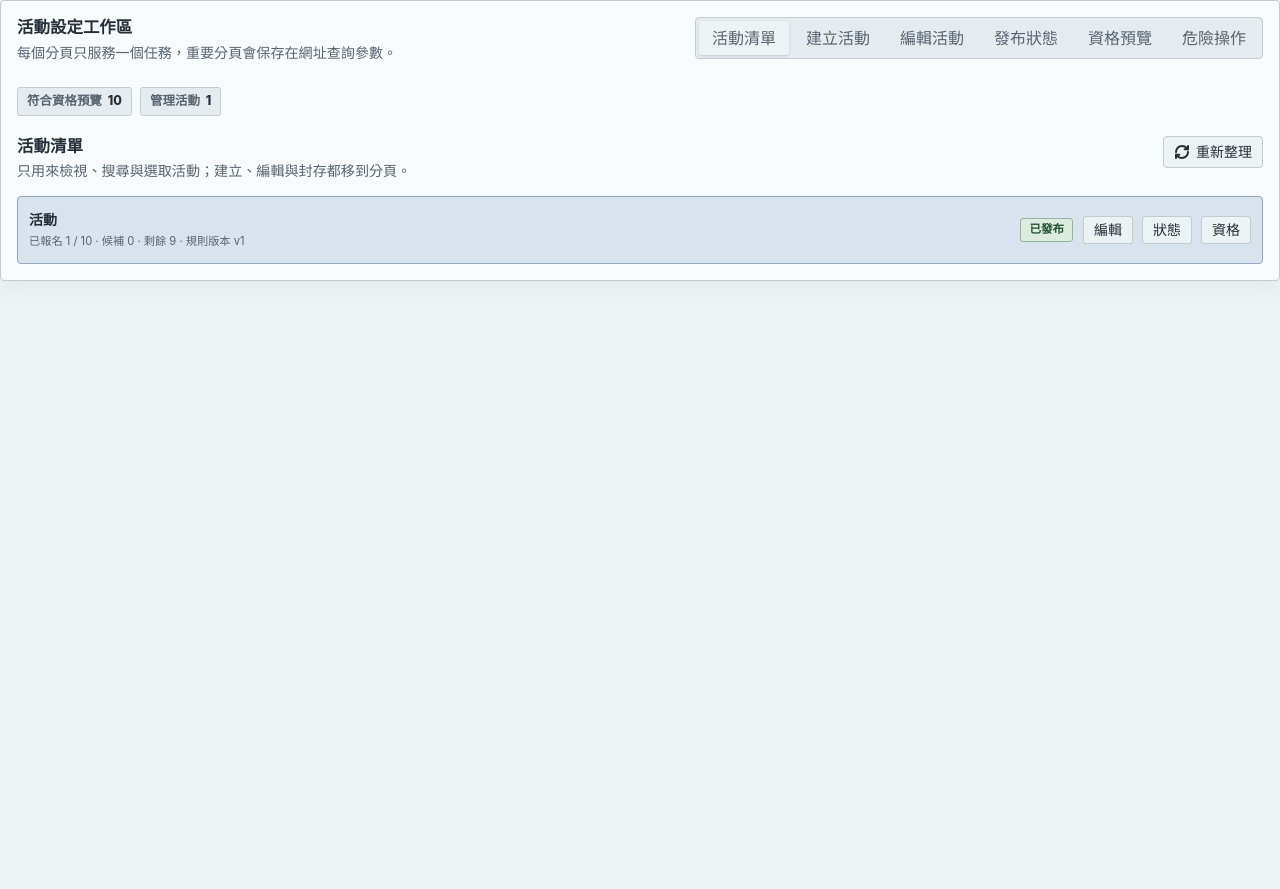
Test: AdminEventsPage CRUD tabs › keeps list, edit, status, eligibility, and danger work in separate tabs
This screenshot has width=1280, height=889.
Expected: the button "封存活動" is not shown
Click the tab "編輯活動": point(932, 38) [887,21,977,55]
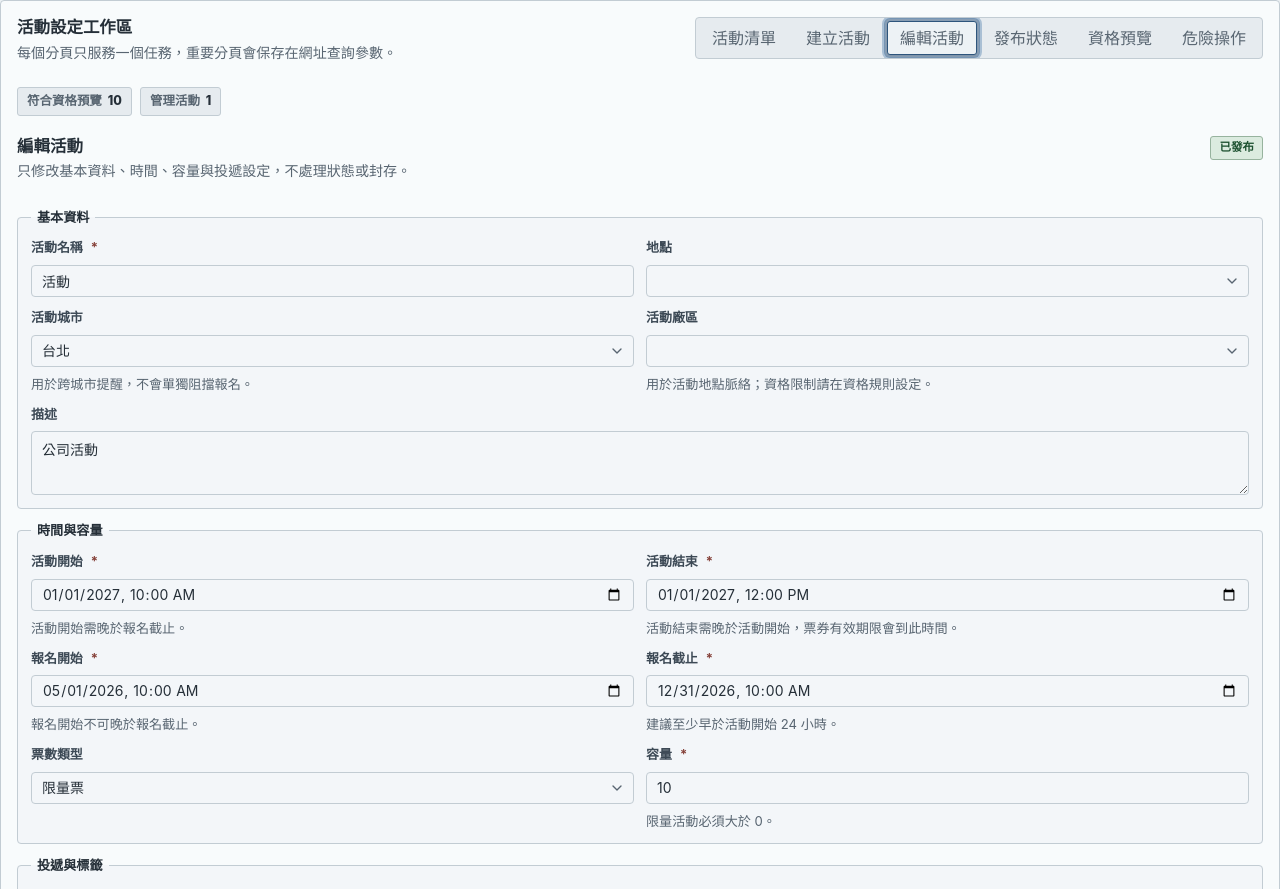
Expected: the button "封存活動" is not shown
Expected: the heading "編輯活動" is shown, [17,136,83,156]
Click the tab "發布狀態": point(1026, 38) [981,21,1071,55]
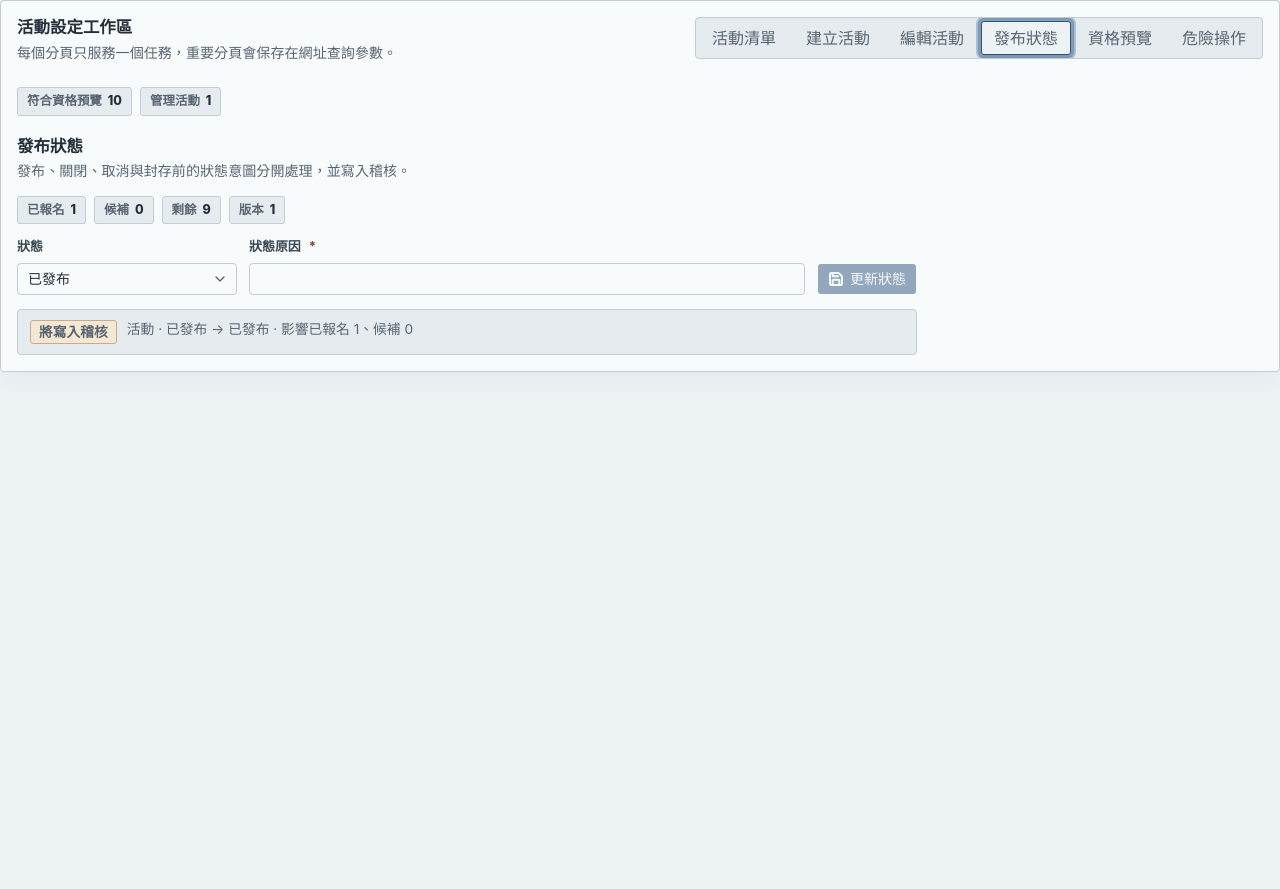
Expected: the heading "發布狀態" is shown, [17,136,83,156]
Expected: the button "更新狀態" is shown, [817,264,917,296]
Expected: the element named "發布狀態摘要" is shown, [17,196,285,224]
Click the tab "危險操作": point(1214, 38) [1169,21,1259,55]
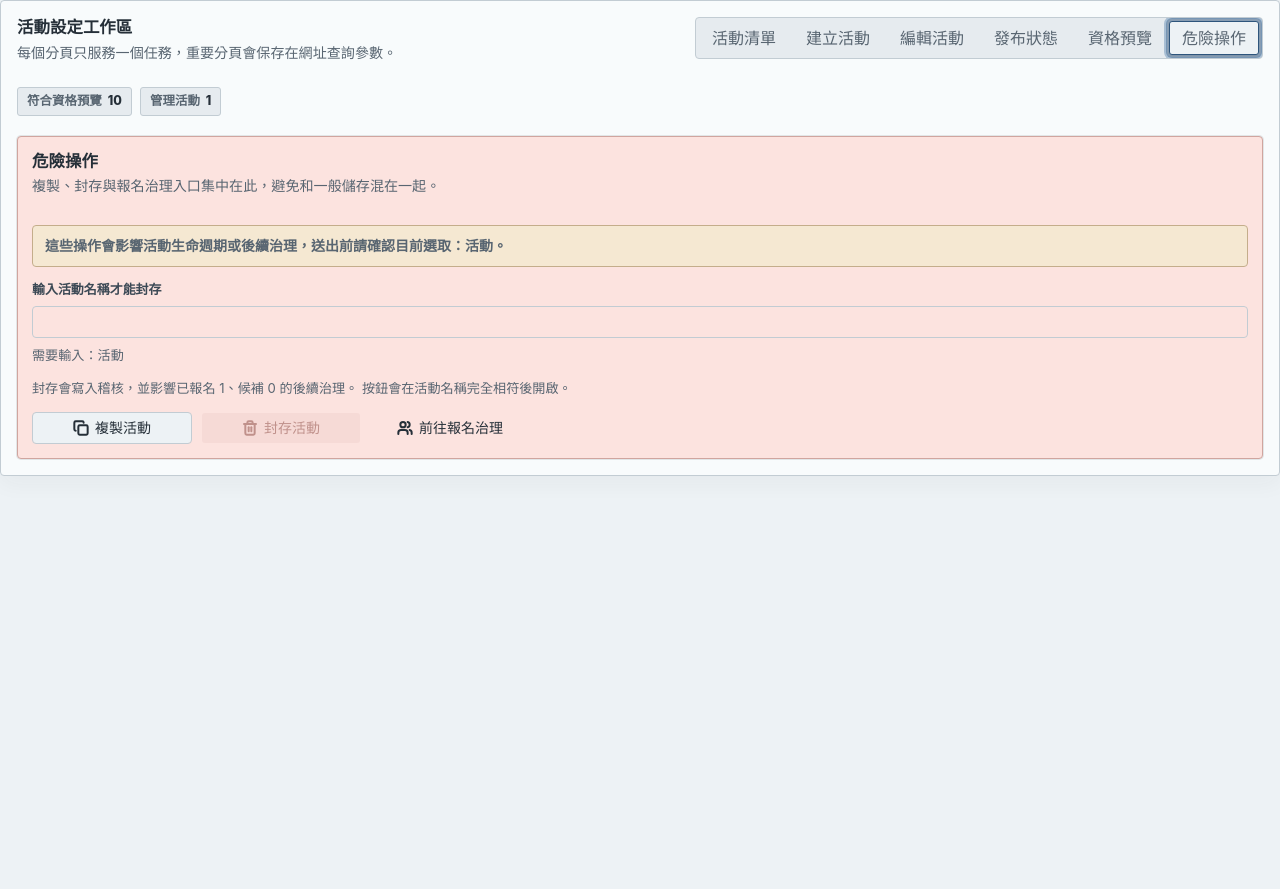
Expected: the heading "危險操作" is shown, [32,151,98,171]
Expected: the button "封存活動" is shown, [201,412,361,444]
